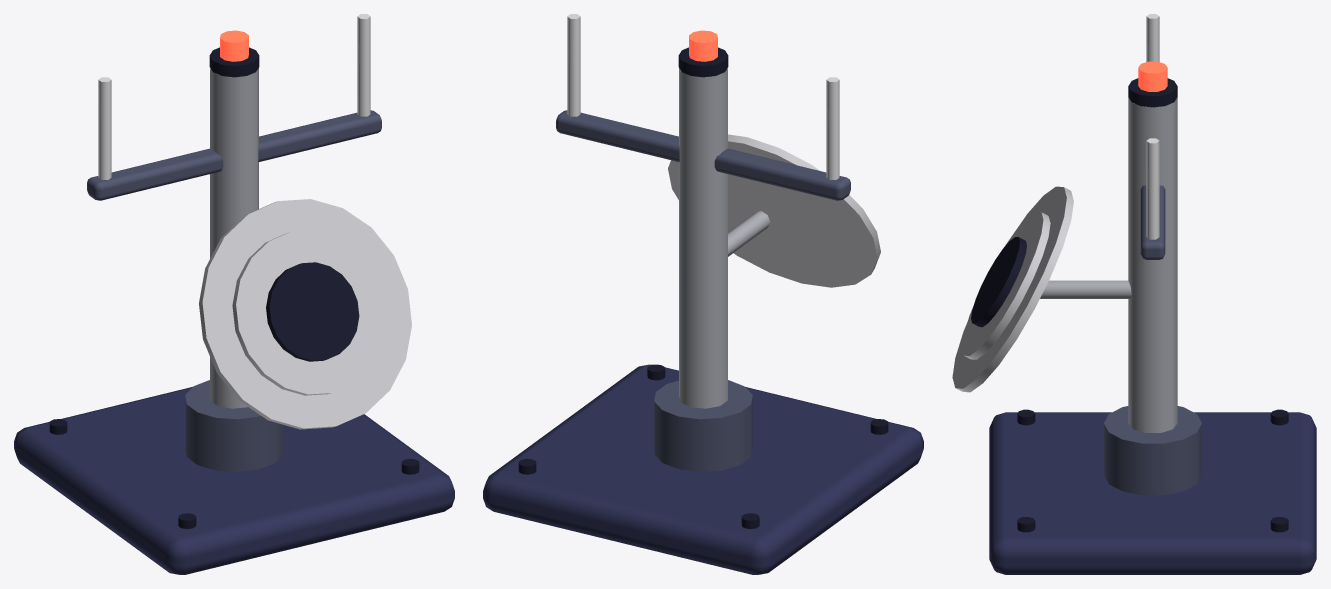
The model's file is deco.antenna.glb.
3 views of the same model, side by side, from view 1: azimuth 30°, elevation 25°; view 2: azimuth 150°, elevation 25°; view 3: azimuth 270°, elevation 25° (orthographic).
Parts seen in each view (by area): view 1: deco.antenna; view 2: deco.antenna; view 3: deco.antenna.
Part boxes in pixels (box(x1,y1,x2,y2)): deco.antenna: box(14, 14, 454, 574); deco.antenna: box(483, 14, 923, 574); deco.antenna: box(952, 14, 1316, 574).
Size of the model in its own units: 0.4 by 0.6 by 0.4452.
